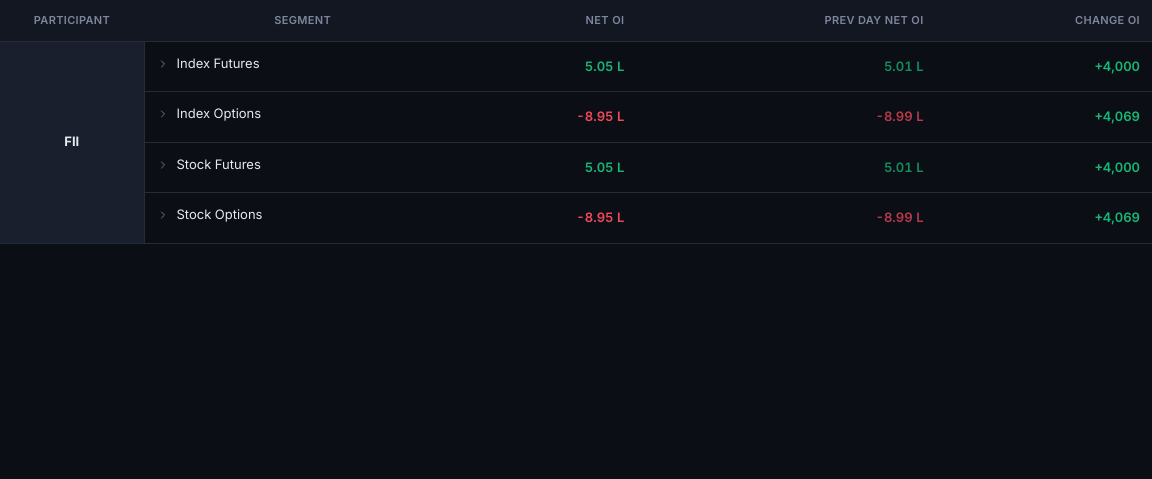
Test: the leg breakdown › shows the four option legs on an options row
The image size is (1152, 479).
Click the button "Index Options". click: [209, 114]
box: [156,104,261,124]
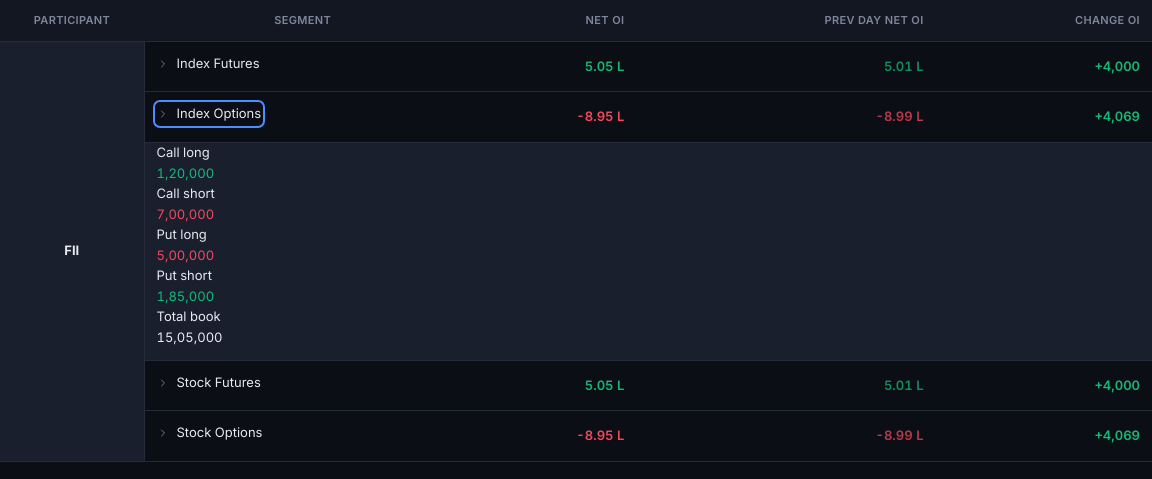
Expected: the text "Call long" is shown, [156,144,210,160]
Expected: the text "Put short" is shown, [156,266,212,282]
